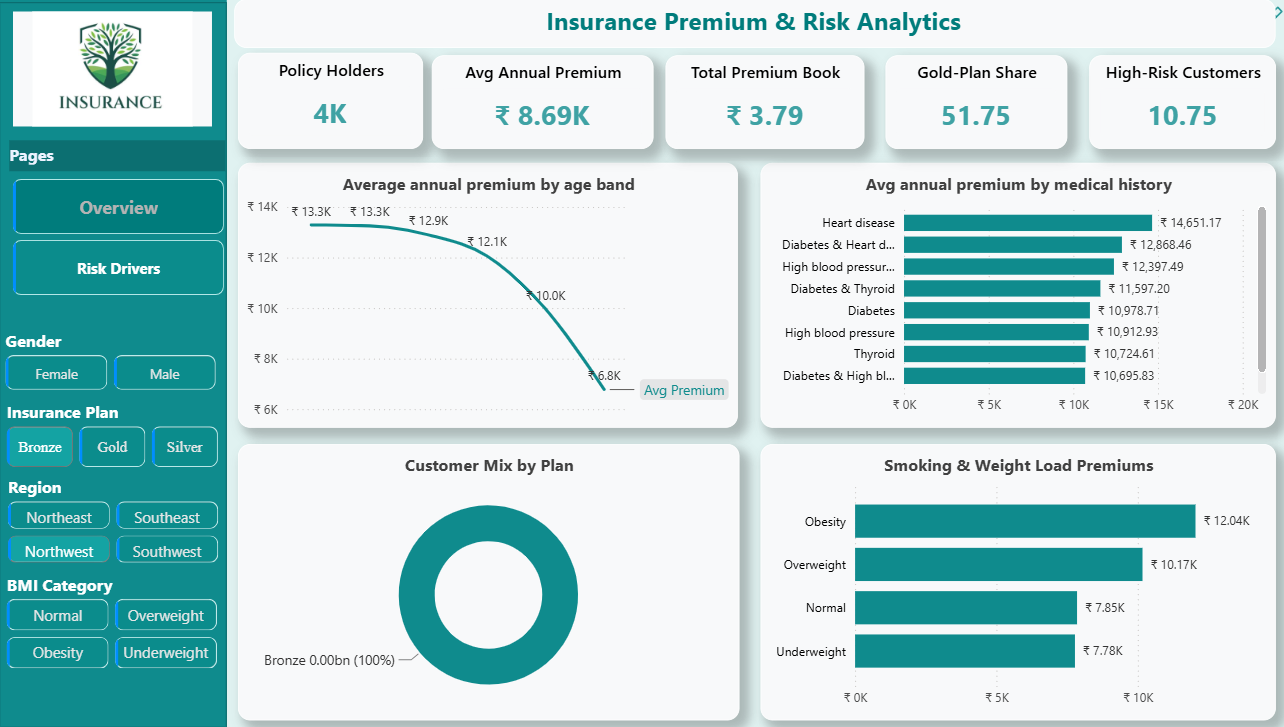

Layout of this report page (visuals, bound fields, positions):
{"tool":"powerbi","page":{"name":"Overview","canvas":[1280,720],"ordinal":0},"visuals":[{"type":"shape","box":[6.1,0,223.2,719.8],"z":0},{"type":"lineChart","title":"Average annual premium by age band ","fields":{"Category":["premiums.age_group"],"Y":["premiums.Avg Premium"]},"box":[240.4,165.5,490.5,260],"z":1000},{"type":"cardVisual","title":"Policy Holders","fields":{"Data":["Sheet1.Total Policyholders"]},"box":[239.9,57.5,181.5,94.4],"z":2000,"group":"g1"},{"type":"donutChart","title":"Customer Mix by Plan","fields":{"Category":["premiums.Insurance_Plan"],"Y":["premiums.Total Policyholders"]},"box":[240.4,441.5,491.7,271],"z":2000},{"type":"cardVisual","title":"Avg Annual Premium","fields":{"Data":["premiums.Avg Premium"]},"box":[429.4,60.1,217.6,92],"z":3000,"group":"g1"},{"type":"clusteredBarChart","title":"Avg annual premium by medical history","fields":{"Y":["premiums.Avg Premium"],"Category":["premiums.Medical History"]},"box":[752.9,165.5,505.2,260],"z":3000},{"type":"cardVisual","title":"High-Risk Customers","fields":{"Data":["premiums.High Risk %"]},"box":[1075,60.1,183.1,92],"z":4000,"group":"g1"},{"type":"clusteredBarChart","title":"Smoking & Weight Load Premiums","fields":{"Y":["premiums.Avg Premium"],"Category":["premiums.BMI_Category"]},"box":[752.9,441.5,505.2,271],"z":4000},{"type":"pageNavigator","title":"Pages","box":[14.9,176.6,212.1,125.1],"z":7000},{"type":"cardVisual","title":"Total Premium Book","fields":{"Data":["premiums.Total Premium Cr"]},"box":[658.9,60.1,195,92],"z":8000,"group":"g1"},{"type":"shape","title":"Pages","box":[16.2,143.5,212.1,30.7],"z":8000},{"type":"cardVisual","title":"Gold-Plan Share","fields":{"Data":["premiums.Gold Share %"]},"box":[875.3,60.1,178.4,92],"z":10000,"group":"g1"},{"type":"advancedSlicerVisual","title":"Gender","fields":{"Values":["premiums.Gender"]},"box":[7.8,324.3,217.1,69.9],"z":15000,"group":"g2"},{"type":"actionButton","box":[1244,5,30,25],"z":20000},{"type":"group","id":"g1","title":"Group 1","box":[239.9,57.5,1018.3,94.5],"z":21000},{"type":"group","id":"g2","title":"Group 3","box":[7.8,324.3,219.2,343.7],"z":22000},{"type":"shape","title":"Insurance Premium & Risk Analytics","box":[236.7,4.9,1021.5,47.8],"z":23000},{"type":"image","box":[19.6,17.2,195,112.8],"z":23001},{"type":"advancedSlicerVisual","title":"BMI Category","fields":{"Values":["premiums.BMI_Category"]},"box":[8.7,563.8,217.1,104.2],"z":25000,"group":"g2"},{"type":"advancedSlicerVisual","title":"Insurance Plan","fields":{"Values":["premiums.Insurance_Plan"]},"box":[8.7,394.6,217.1,76],"z":27000,"group":"g2"},{"type":"advancedSlicerVisual","title":"Region","fields":{"Values":["premiums.Region"]},"box":[9.9,468.2,217.1,96.9],"z":28000,"group":"g2"}]}

Visuals, with their boxes on the page's 1280x720 design canvas (x1, y1, x2, y2). These are canvas units, not pixel positions in the 1284x727 screenshot, which may show the page scaled, cropped or inside an application window:
shape: {"left": 6, "top": 0, "right": 229, "bottom": 720}
"Average annual premium by age band " lineChart: {"left": 240, "top": 166, "right": 731, "bottom": 426}
"Policy Holders" cardVisual: {"left": 240, "top": 58, "right": 421, "bottom": 152}
"Customer Mix by Plan" donutChart: {"left": 240, "top": 442, "right": 732, "bottom": 712}
"Avg Annual Premium" cardVisual: {"left": 429, "top": 60, "right": 647, "bottom": 152}
"Avg annual premium by medical history" clusteredBarChart: {"left": 753, "top": 166, "right": 1258, "bottom": 426}
"High-Risk Customers" cardVisual: {"left": 1075, "top": 60, "right": 1258, "bottom": 152}
"Smoking & Weight Load Premiums" clusteredBarChart: {"left": 753, "top": 442, "right": 1258, "bottom": 712}
"Pages" pageNavigator: {"left": 15, "top": 177, "right": 227, "bottom": 302}
"Total Premium Book" cardVisual: {"left": 659, "top": 60, "right": 854, "bottom": 152}
"Pages" shape: {"left": 16, "top": 144, "right": 228, "bottom": 174}
"Gold-Plan Share" cardVisual: {"left": 875, "top": 60, "right": 1054, "bottom": 152}
"Gender" advancedSlicerVisual: {"left": 8, "top": 324, "right": 225, "bottom": 394}
actionButton: {"left": 1244, "top": 5, "right": 1274, "bottom": 30}
"Group 1" group: {"left": 240, "top": 58, "right": 1258, "bottom": 152}
"Group 3" group: {"left": 8, "top": 324, "right": 227, "bottom": 668}
"Insurance Premium & Risk Analytics" shape: {"left": 237, "top": 5, "right": 1258, "bottom": 53}
image: {"left": 20, "top": 17, "right": 215, "bottom": 130}
"BMI Category" advancedSlicerVisual: {"left": 9, "top": 564, "right": 226, "bottom": 668}
"Insurance Plan" advancedSlicerVisual: {"left": 9, "top": 395, "right": 226, "bottom": 471}
"Region" advancedSlicerVisual: {"left": 10, "top": 468, "right": 227, "bottom": 565}
